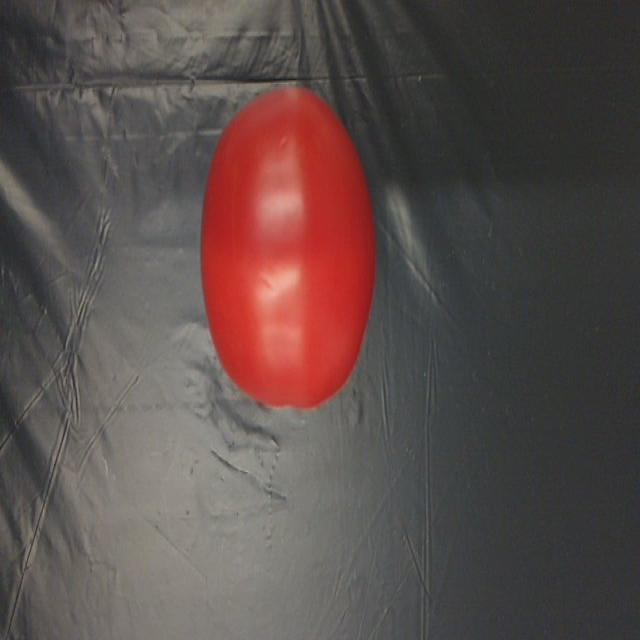kirmizi: (196, 86, 384, 421)
